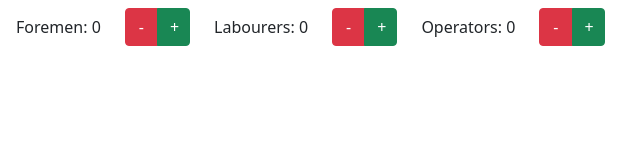
it: CrewList › tracks each role independently
Click the button "+" in the row of "Foremen:": (174, 27) [157,8,190,46]
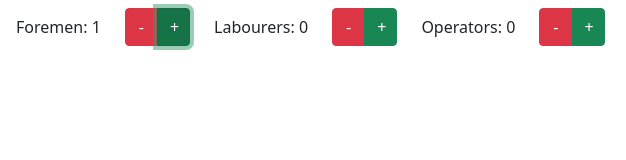
Click the button "+" in the row of "Operators:": (588, 27) [572,8,605,46]
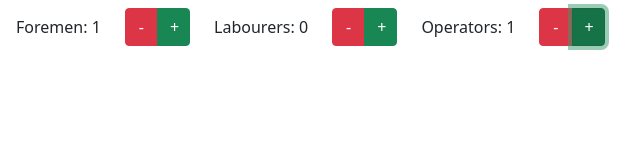
Click the button "+" in the row of "Operators:": (588, 27) [572,8,605,46]
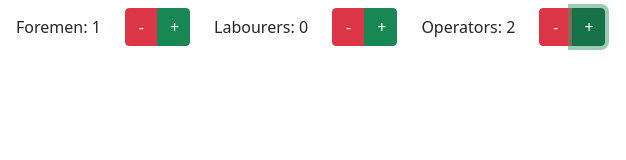
Expected: the text "Labourers: 0" is shown, [214,16,308,38]
Expected: the text "Foremen: 1" is shown, [16,16,101,38]
Expected: the text "Operators: 2" is shown, [421,16,515,38]
